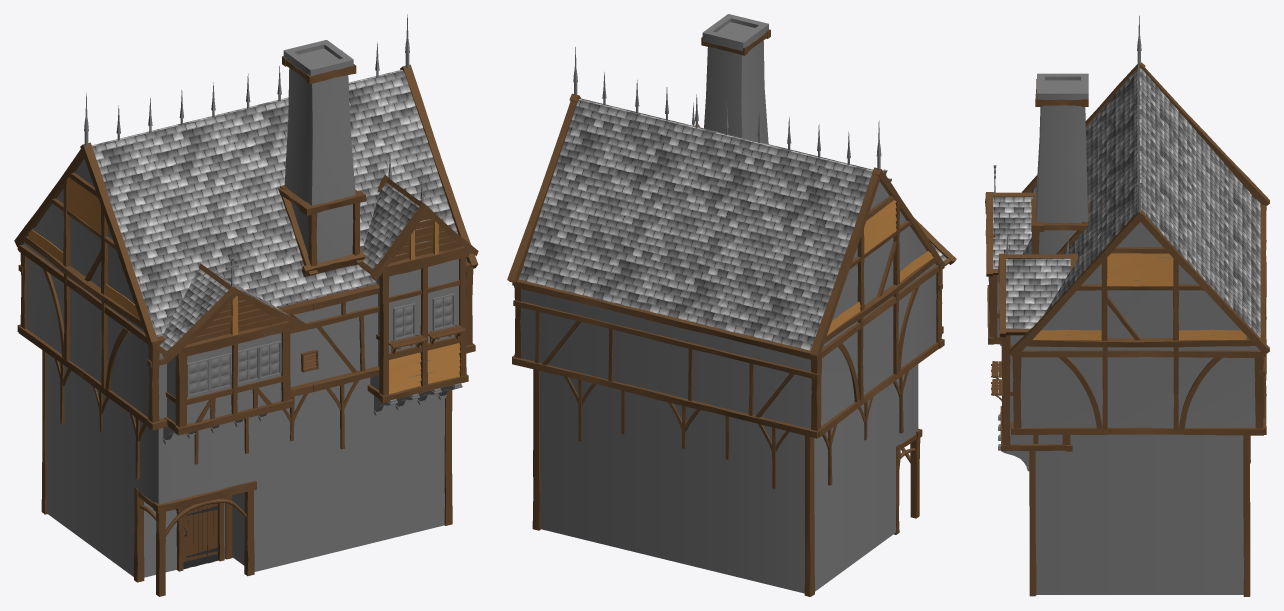
Rendered from SM_inn.fbx.
The picture shows the model from 3 angles, left to right: view 1: azimuth 30°, elevation 25°; view 2: azimuth 150°, elevation 25°; view 3: azimuth 270°, elevation 25°; orthographic projection. The views are drawn at different scales.
Parts seen in each view (by area): view 1: Object32587; view 2: Object32587; view 3: Object32587.
Boxes of the visible parts, x1,y1,x2,y2 form: Object32587: (14, 14, 478, 596); Object32587: (507, 14, 956, 596); Object32587: (985, 15, 1269, 596).
Size of the model in its own units: 531 by 747 by 418.
Materials: 8 (1 with a texture image).
